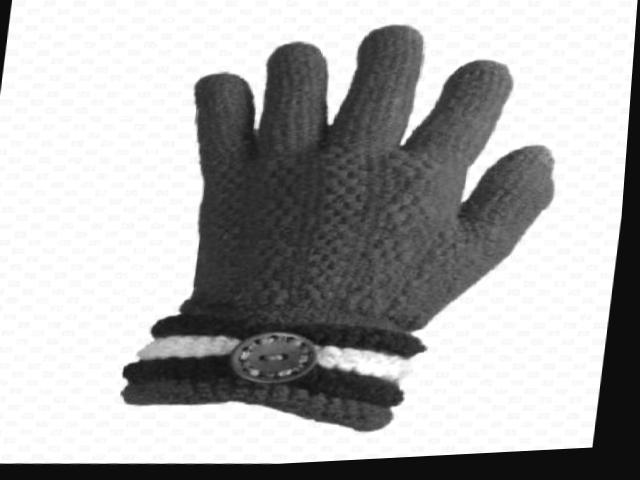Hand-in-Glove: (89, 4, 603, 451)
